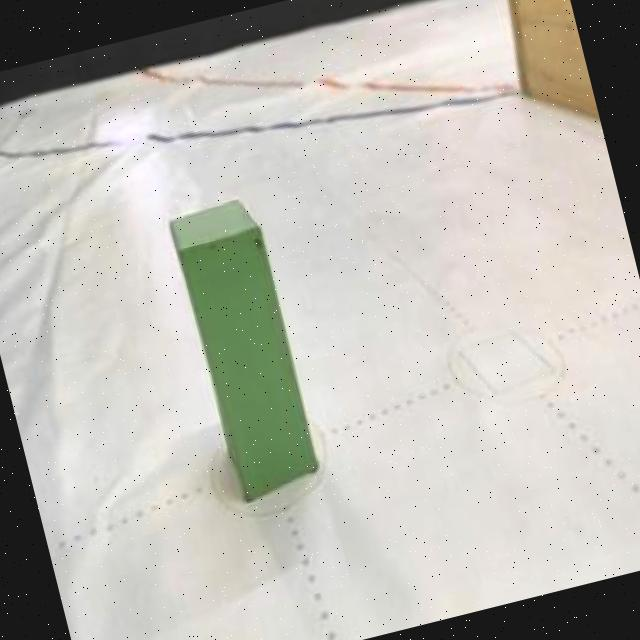greenbox: (162, 188, 326, 506)
